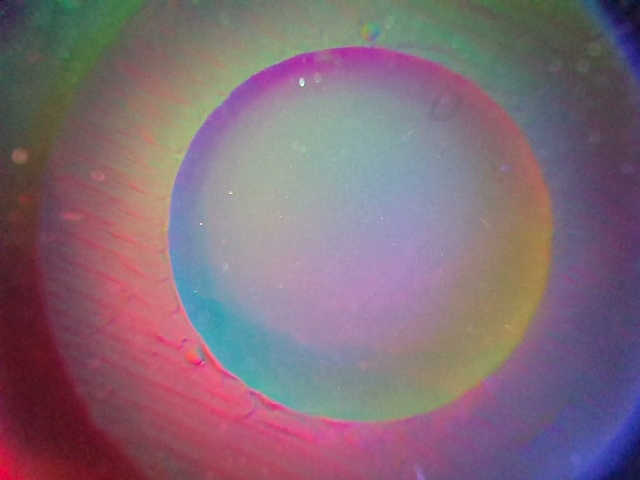contact: (169, 49, 551, 420)
